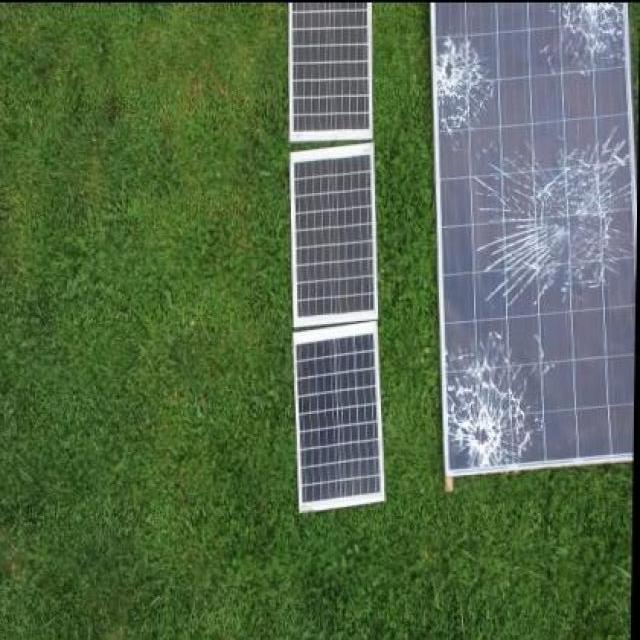cracked: (427, 1, 637, 482)
